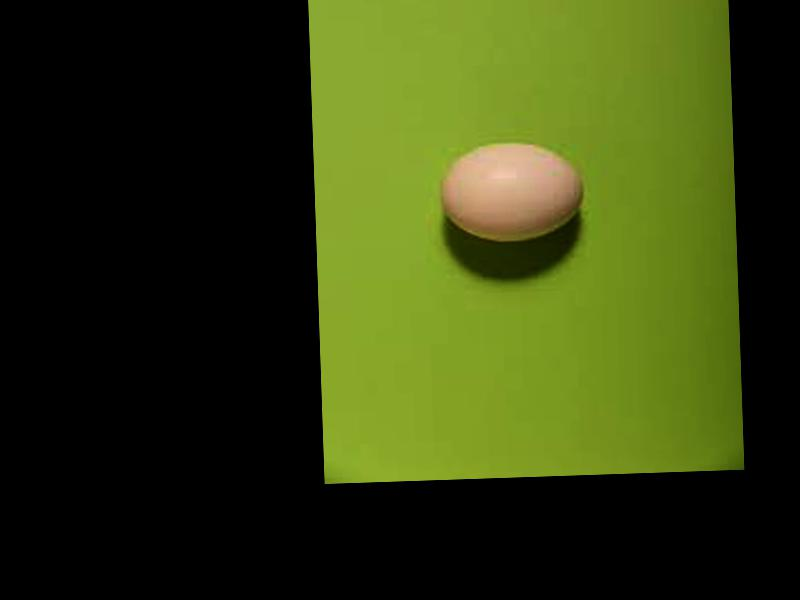Eggs: (439, 143, 587, 243)
